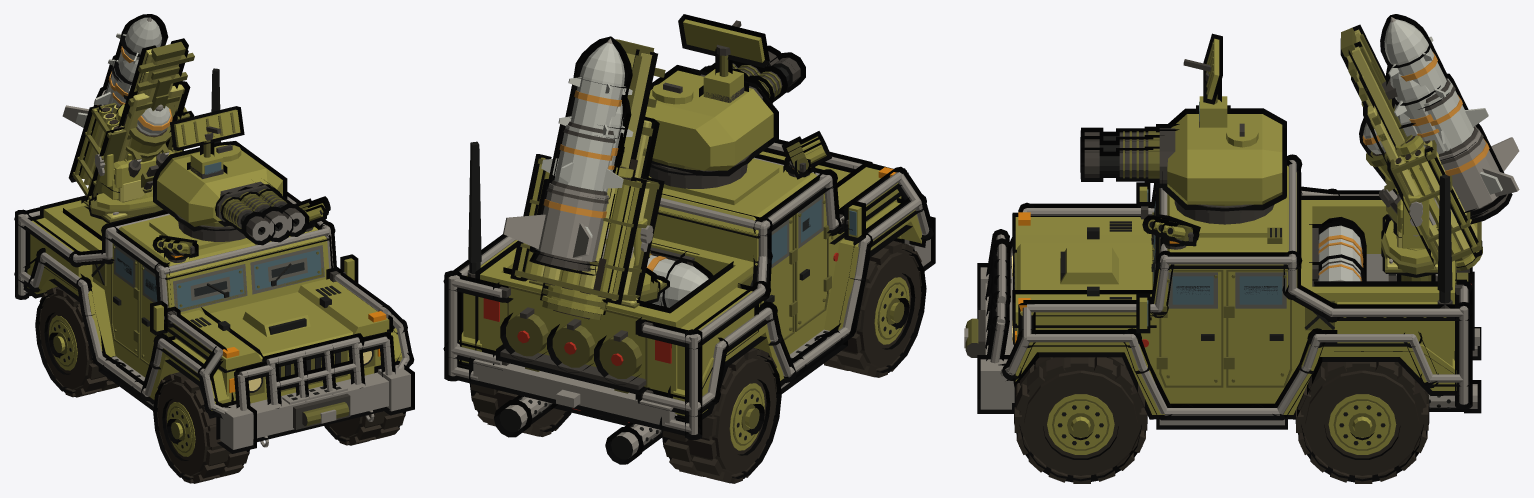
The model's file is jackal_armored.glb.
3 views of the same model, side by side, from view 1: azimuth 30°, elevation 25°; view 2: azimuth 150°, elevation 25°; view 3: azimuth 270°, elevation 25° (orthographic). The views are drawn at different scales.
Visible parts, largest first — view 1: Armored_Hull, Armored_UpHull, Armored_Wheel_R1, Armored_Turret, Armored_Wheel_R2, Armored_Glass, Armored_UpTwin, Armored_UpRadarDish, Armored_UpArmor, Armored_Wheel_L1, Armored_StageMissile3Nose, Armored_Gun (+15 smaller); view 2: Armored_Hull, Armored_UpHull, Armored_Turret, Armored_Wheel_R2, Armored_Wheel_R1, Armored_StageMissile1, Armored_UpNitro, Armored_UpRadarDish, Armored_StageMissile2, Armored_UpMines, Armored_StageMissile3, Armored_StageMissile3Nose (+24 smaller); view 3: Armored_Hull, Armored_UpHull, Armored_Wheel_L1, Armored_Wheel_L2, Armored_Turret, Armored_UpTwin, Armored_Glass, Armored_UpZipRound2, Armored_StageMissile1, Armored_StageMissile3Nose, Armored_StageMissile2, Armored_Gun (+15 smaller).
Part boxes in pixels (x1,y1,x2,y2): Armored_Hull: [23, 195, 414, 453]; Armored_UpHull: [14, 192, 414, 418]; Armored_Wheel_R1: [153, 372, 249, 483]; Armored_Turret: [153, 141, 287, 231]; Armored_Wheel_R2: [35, 287, 119, 397]; Armored_Glass: [114, 244, 324, 311]; Armored_UpTwin: [215, 180, 309, 245]; Armored_UpRadarDish: [170, 106, 244, 150]; Armored_UpArmor: [113, 246, 323, 310]; Armored_Wheel_L1: [324, 411, 405, 445]; Armored_StageMissile3Nose: [120, 14, 168, 57]; Armored_Gun: [230, 182, 293, 242]; Armored_Hull: [457, 148, 935, 432]; Armored_UpHull: [443, 139, 934, 439]; Armored_Turret: [645, 65, 778, 176]; Armored_Wheel_R2: [661, 348, 781, 483]; Armored_Wheel_R1: [824, 240, 926, 377]; Armored_StageMissile1: [529, 179, 615, 266]; Armored_UpNitro: [494, 395, 662, 464]; Armored_UpRadarDish: [678, 14, 769, 67]; Armored_StageMissile2: [547, 124, 623, 199]; Armored_UpMines: [496, 307, 649, 394]; Armored_StageMissile3: [563, 70, 630, 138]; Armored_StageMissile3Nose: [573, 36, 632, 88]; Armored_Hull: [964, 160, 1479, 429]; Armored_UpHull: [985, 154, 1472, 420]; Armored_Wheel_L1: [1014, 357, 1147, 483]; Armored_Wheel_L2: [1295, 362, 1429, 483]; Armored_Turret: [1162, 108, 1286, 211]; Armored_UpTwin: [1080, 124, 1179, 187]; Armored_Glass: [1151, 201, 1286, 308]; Armored_UpZipRound2: [1317, 217, 1366, 281]; Armored_StageMissile1: [1439, 123, 1506, 216]; Armored_StageMissile3Nose: [1380, 14, 1432, 67]; Armored_StageMissile2: [1424, 73, 1478, 160]; Armored_Gun: [1080, 129, 1179, 156].
Size of the model in its own units: 2.37 by 3.64 by 4.44.
